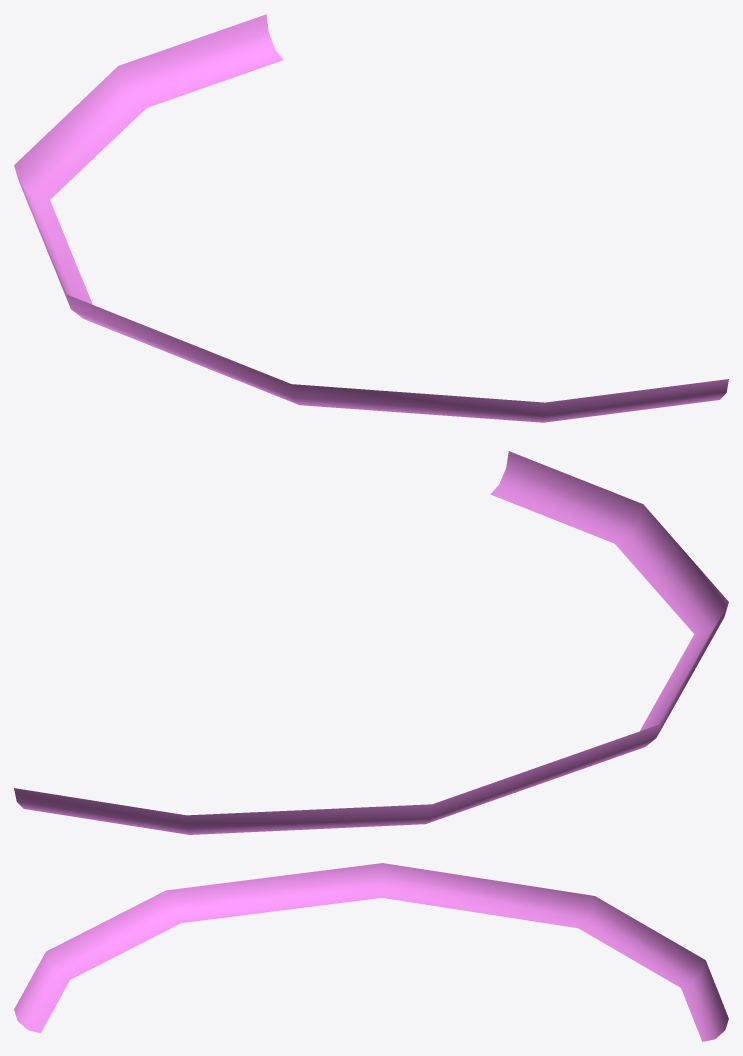
The model's file is original-32.obj.
3 renders of one model, top to bottom at view 1: azimuth 30°, elevation 25°; view 2: azimuth 150°, elevation 25°; view 3: azimuth 270°, elevation 25°, orthographic. The views are drawn at different scales.
Parts seen in each view (by area): view 1: Group24/mesh29/mesh29-geometry#mesh29-geometry; view 2: Group24/mesh29/mesh29-geometry#mesh29-geometry; view 3: Group24/mesh29/mesh29-geometry#mesh29-geometry.
Boxes of the visible parts, x1=… form: Group24/mesh29/mesh29-geometry#mesh29-geometry: x1=14, y1=14, x2=728, y2=422; Group24/mesh29/mesh29-geometry#mesh29-geometry: x1=14, y1=451, x2=728, y2=834; Group24/mesh29/mesh29-geometry#mesh29-geometry: x1=14, y1=863, x2=728, y2=1041.
Bounding box in the file's own units: 0.3123 × 0.0222 × 0.6056.
